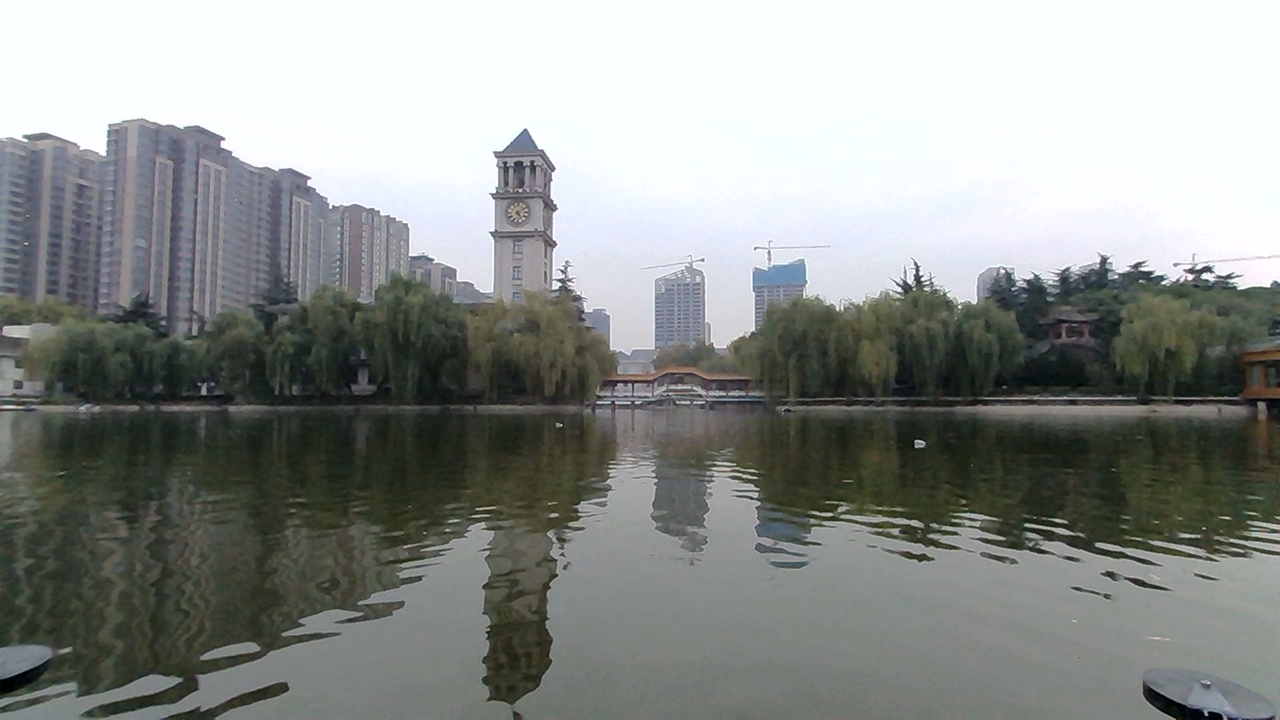bottle: (901, 433, 933, 454)
